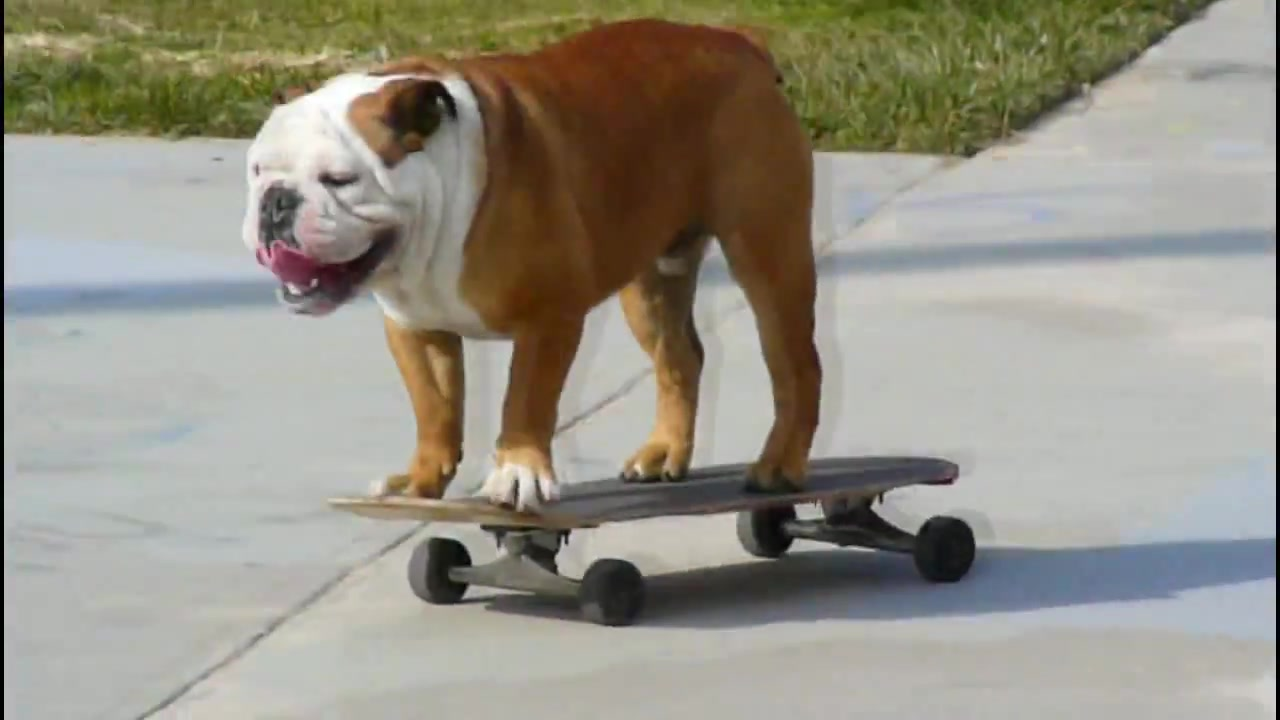dog: (243, 16, 826, 511)
